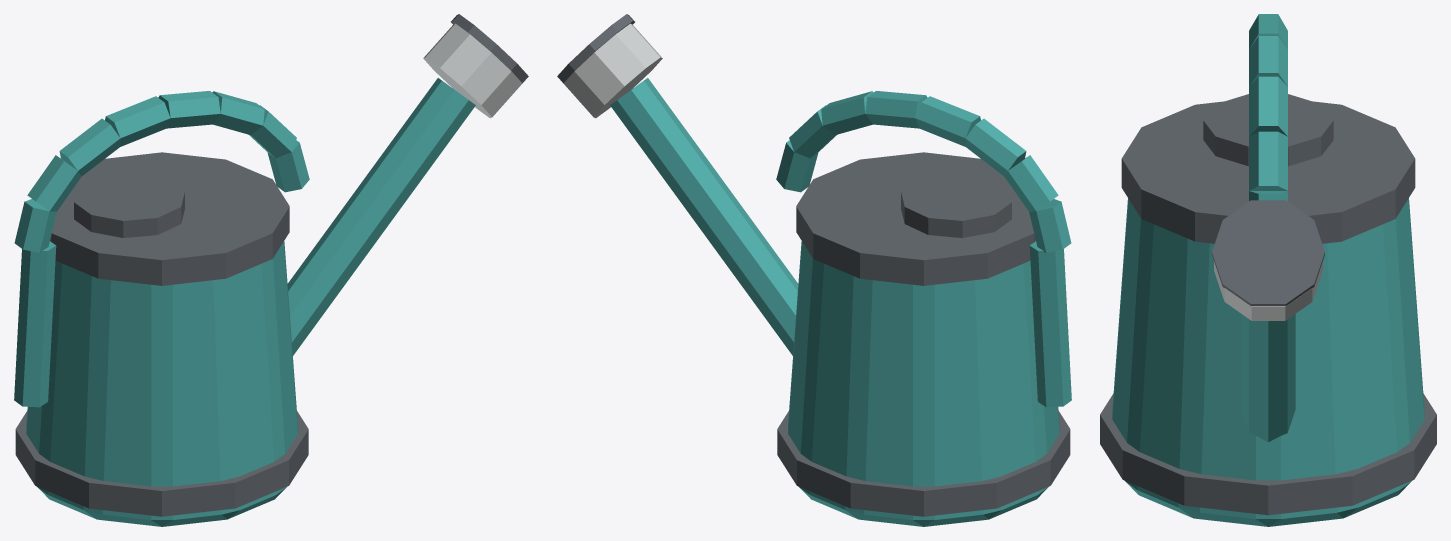
Rendered from watering_can.glb.
3 renders of one model, left to right at view 1: azimuth 30°, elevation 25°; view 2: azimuth 150°, elevation 25°; view 3: azimuth 270°, elevation 25°, orthographic. The views are drawn at different scales.
Visible parts, largest first — view 1: Watering Can; view 2: Watering Can; view 3: Watering Can.
Boxes of the visible parts, x1=… form: Watering Can: x1=14, y1=14, x2=528, y2=526; Watering Can: x1=557, y1=14, x2=1071, y2=526; Watering Can: x1=1100, y1=14, x2=1436, y2=526.
Bounding box in the file's own units: 0.6112 × 0.4411 × 0.31.
Materials: 1 (1 with a texture image).
